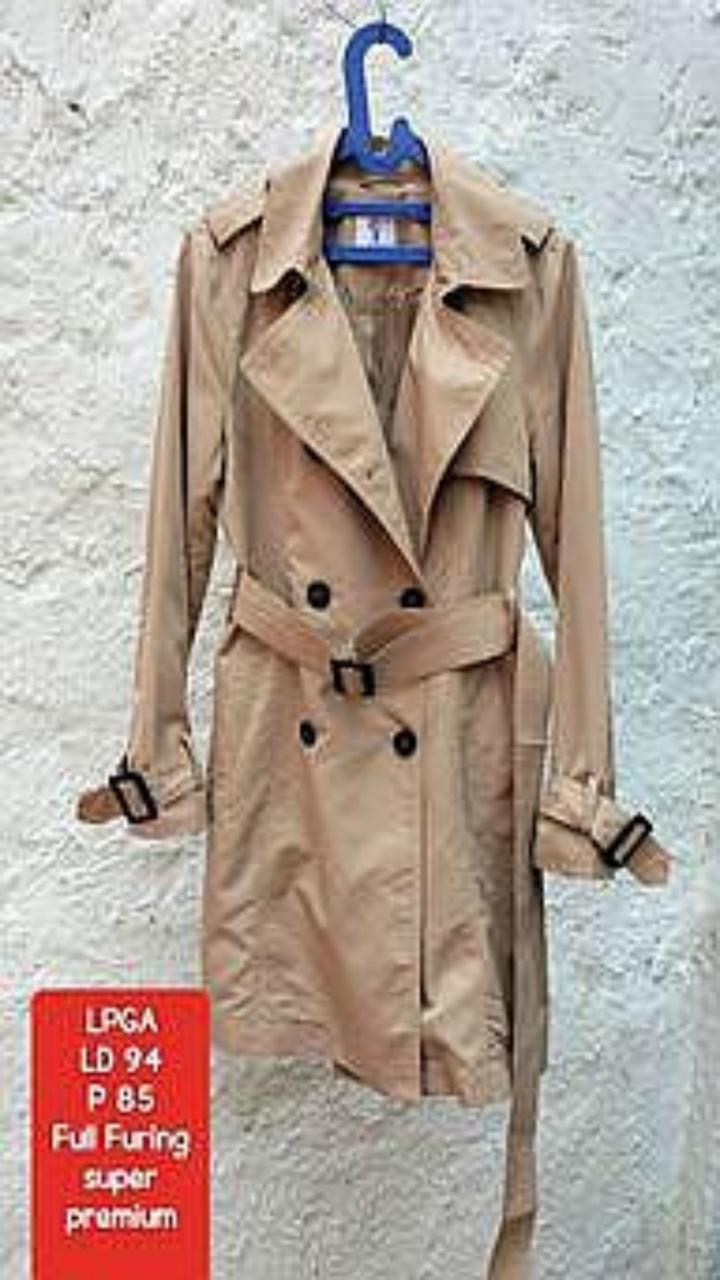Coat: (78, 121, 670, 1279)
